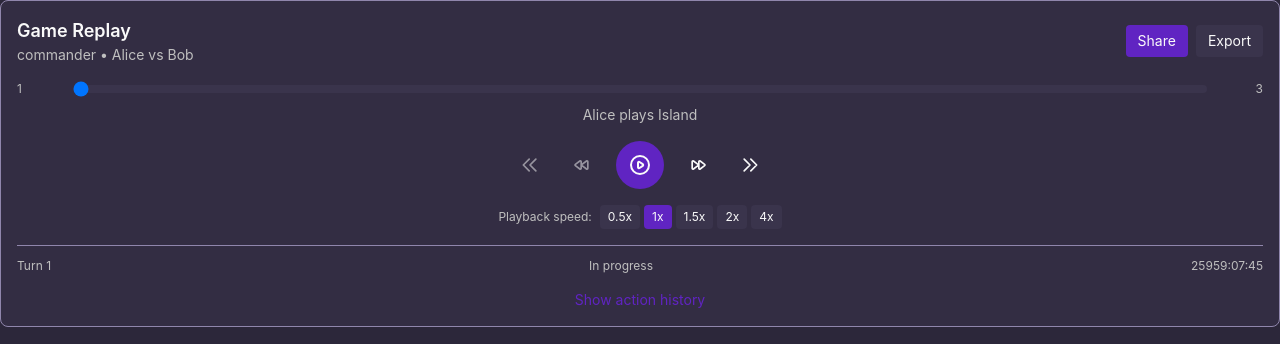
Test case: ReplayViewer — playback region (#1604, WCAG 1.3.1 / 4.1.2) › disables skip-to-end and step-forward when position is at the last action
The width and height of the screenshot is (1280, 344).
Two step-forwards from position 0 lands on position 2 (the last index).
Step 1. Click the button named "step forward" → (698, 165), box [680,147,716,183]
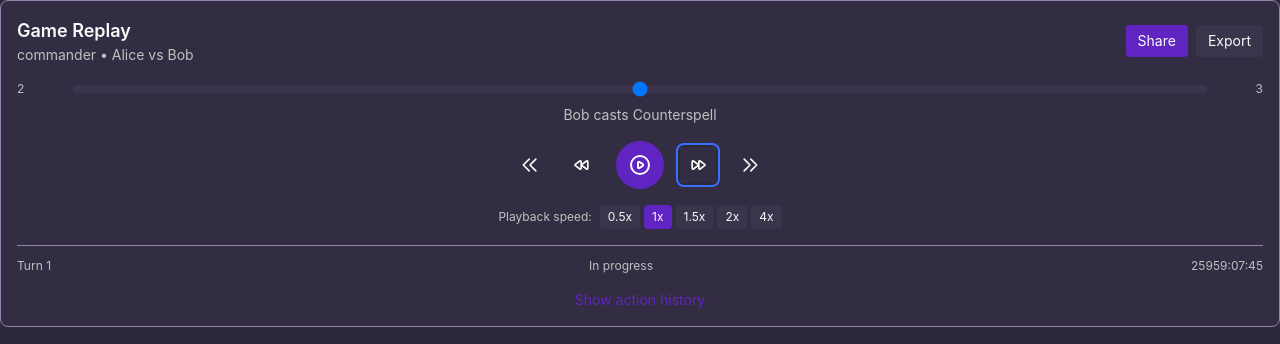
Step 2. Click the button named "step forward" → (698, 165), box [680,147,716,183]
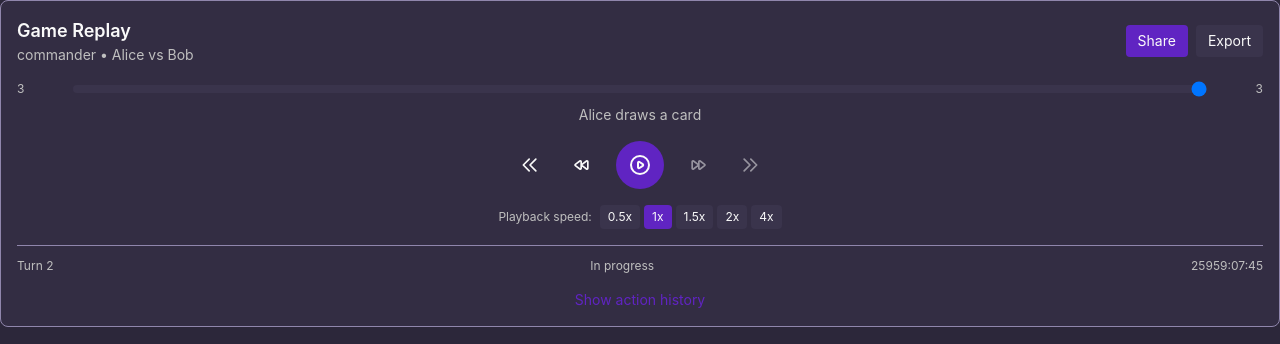
expect the button named "step forward" is disabled: met, box [680,147,716,183]
expect the button named "skip to end" is disabled: met, box [732,147,768,183]
